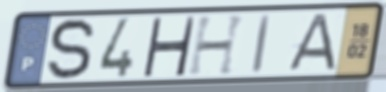4: (97, 15, 138, 81)
A: (282, 11, 340, 73)
H: (185, 12, 250, 78), (140, 16, 198, 78)
I: (249, 12, 274, 76)
S: (45, 16, 98, 83)
